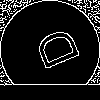D: (25, 25, 81, 76)
